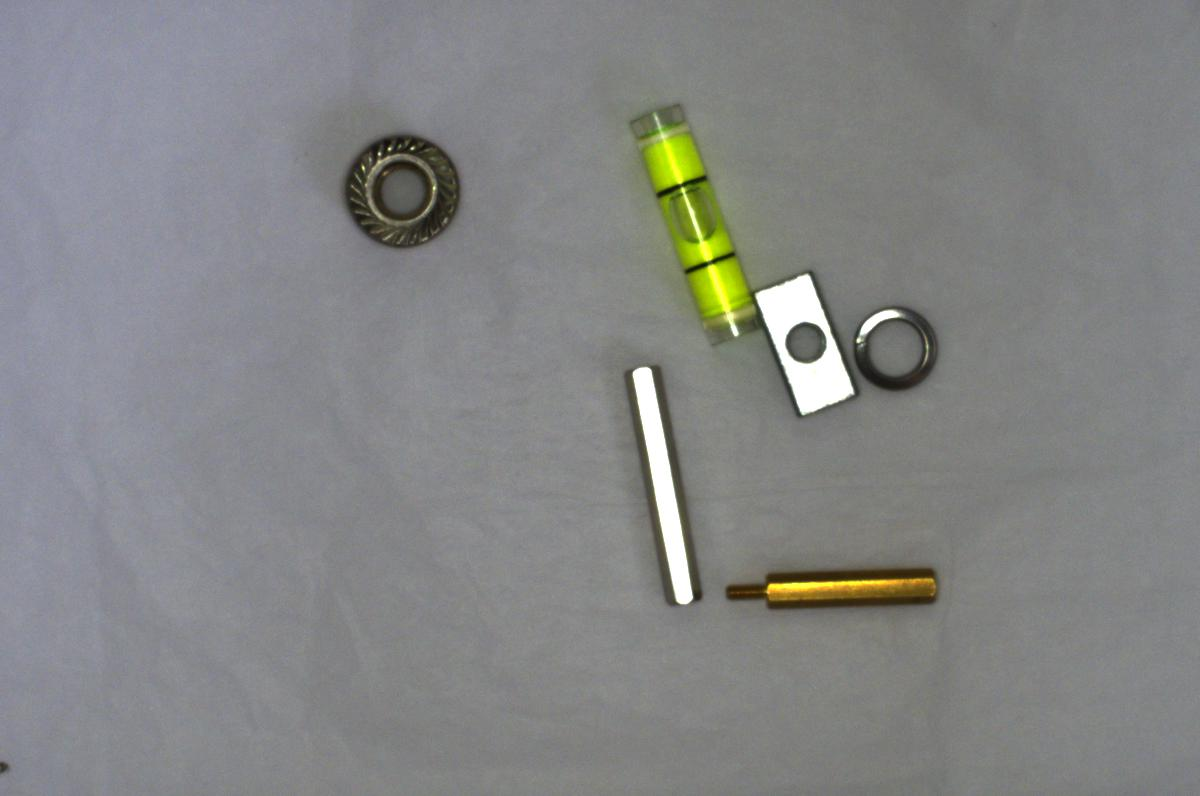Double hexagonal column: (617, 353, 701, 615)
Flange nut: (334, 125, 473, 256)
Hexagon pillar: (725, 553, 951, 609)
Horizontal bubble: (625, 99, 759, 349)
Rectangular nut: (754, 261, 857, 422)
Spring washer: (850, 300, 940, 393)
